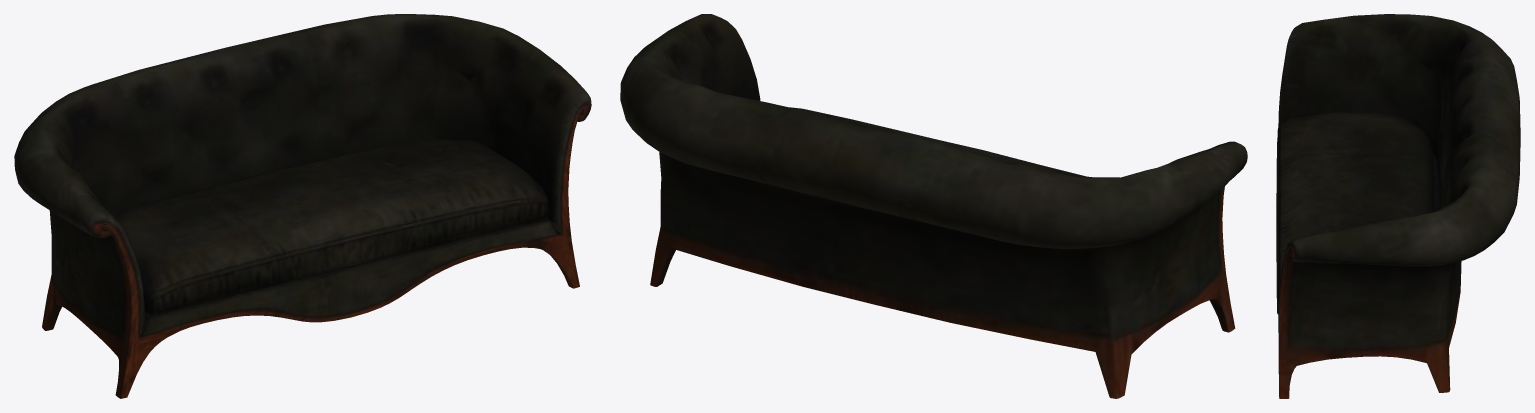
File: sofa_02.glb
3 views of the same model, side by side, from view 1: azimuth 30°, elevation 25°; view 2: azimuth 150°, elevation 25°; view 3: azimuth 270°, elevation 25° (orthographic). The views are drawn at different scales.
Parts seen in each view (by area): view 1: sofa_02_Base, sofa_02_Seat; view 2: sofa_02_Base, sofa_02_Seat; view 3: sofa_02_Base, sofa_02_Seat.
Part boxes in pixels (left/top/right/bottom): sofa_02_Base: left=14, top=14, right=591, bottom=398; sofa_02_Seat: left=115, top=139, right=549, bottom=314; sofa_02_Base: left=620, top=14, right=1247, bottom=398; sofa_02_Seat: left=789, top=107, right=1086, bottom=176; sofa_02_Base: left=1278, top=14, right=1520, bottom=398; sofa_02_Seat: left=1276, top=112, right=1433, bottom=314.
Size of the model in its own units: 1.81 by 0.7095 by 0.8178.
Materials: 1 (1 with a texture image).
